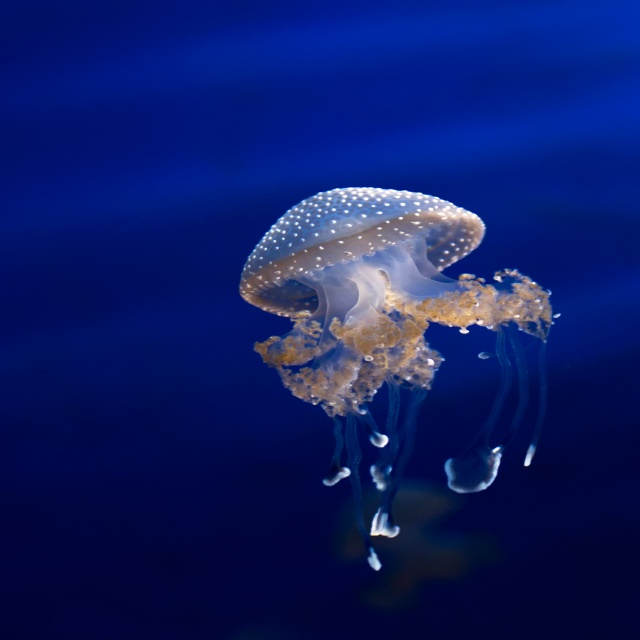Jellyfish: (239, 188, 560, 572)
